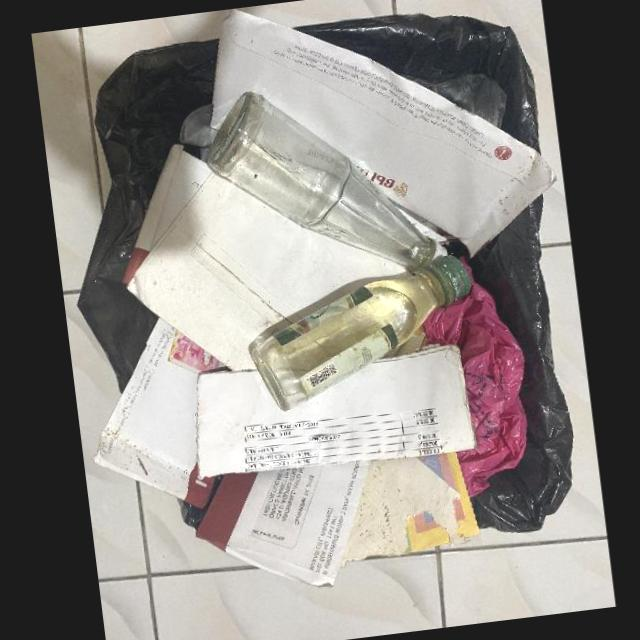chai_thuy_tinh: (206, 90, 450, 270), (250, 255, 473, 410)
giay: (209, 8, 553, 255), (123, 142, 404, 371), (196, 343, 477, 478), (93, 316, 225, 508), (195, 460, 369, 587), (341, 450, 479, 562)
tui_ni_long: (415, 254, 527, 496)
